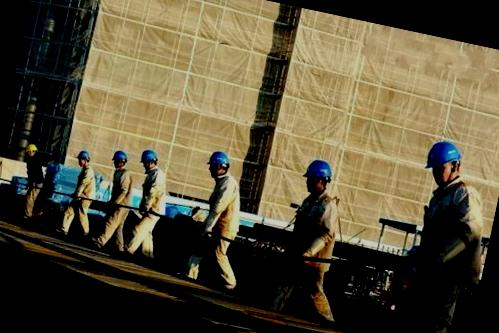helmet: (418, 136, 466, 176), (300, 154, 332, 184), (202, 148, 234, 172), (108, 147, 132, 166), (136, 147, 158, 165), (72, 149, 94, 163), (25, 140, 39, 154)
no_vest: (402, 184, 491, 308), (281, 194, 344, 282), (198, 180, 248, 246), (134, 169, 173, 220), (100, 167, 135, 218), (70, 168, 98, 210), (20, 154, 48, 190)
person: (371, 135, 499, 333), (264, 154, 356, 326), (177, 146, 256, 287), (110, 146, 181, 271), (83, 146, 145, 260), (52, 145, 106, 246), (9, 143, 52, 223)
